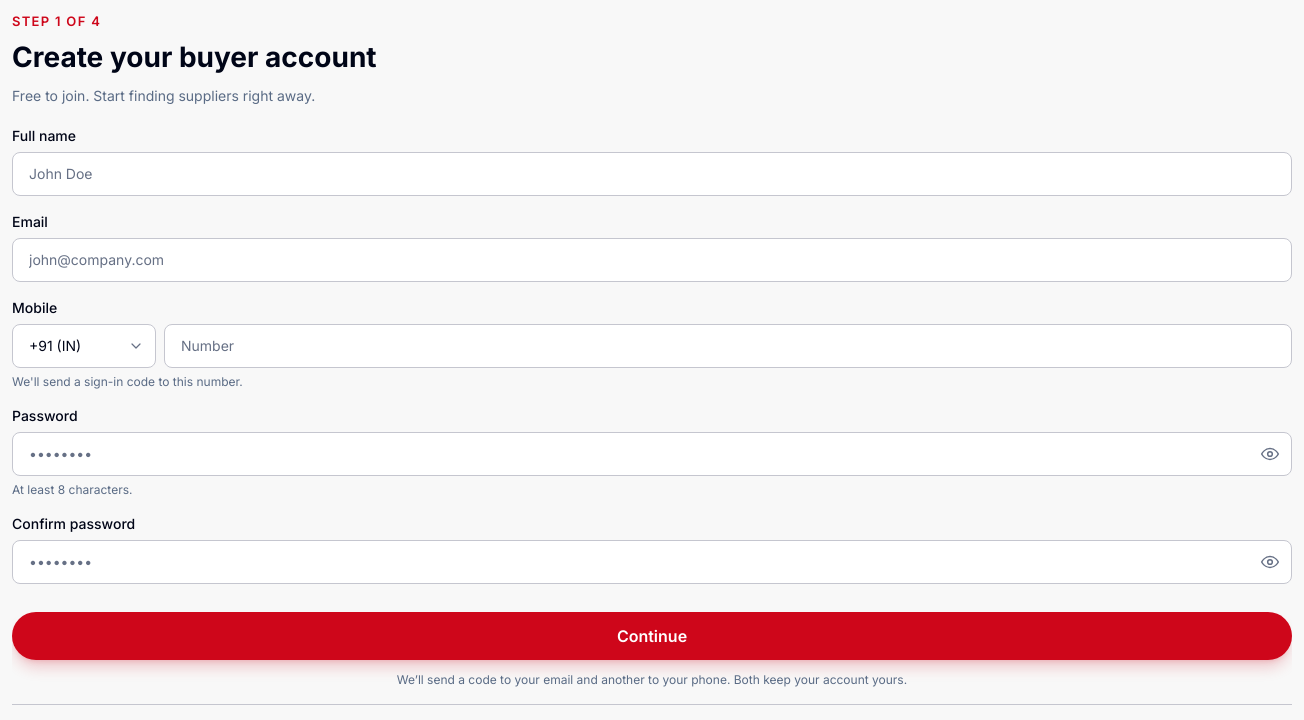
Scenario: Buyer signup — step 1 › refuses mismatched passwords
Type " Nikita Rao " into the field labelled "Full name" at {"x": 652, "y": 174}, box x1=12 y1=152 x2=1292 y2=196
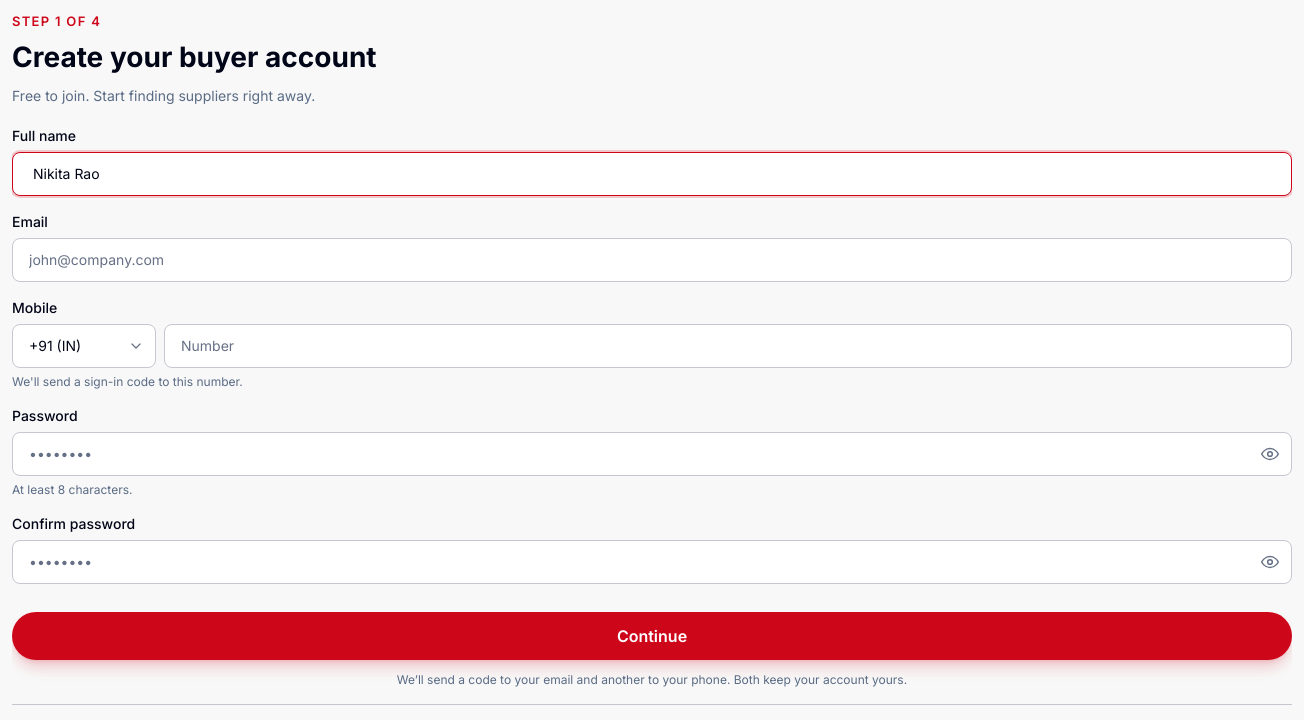
Type "nikita@example.com" into the field labelled "Email" at {"x": 652, "y": 260}, box x1=12 y1=238 x2=1292 y2=282
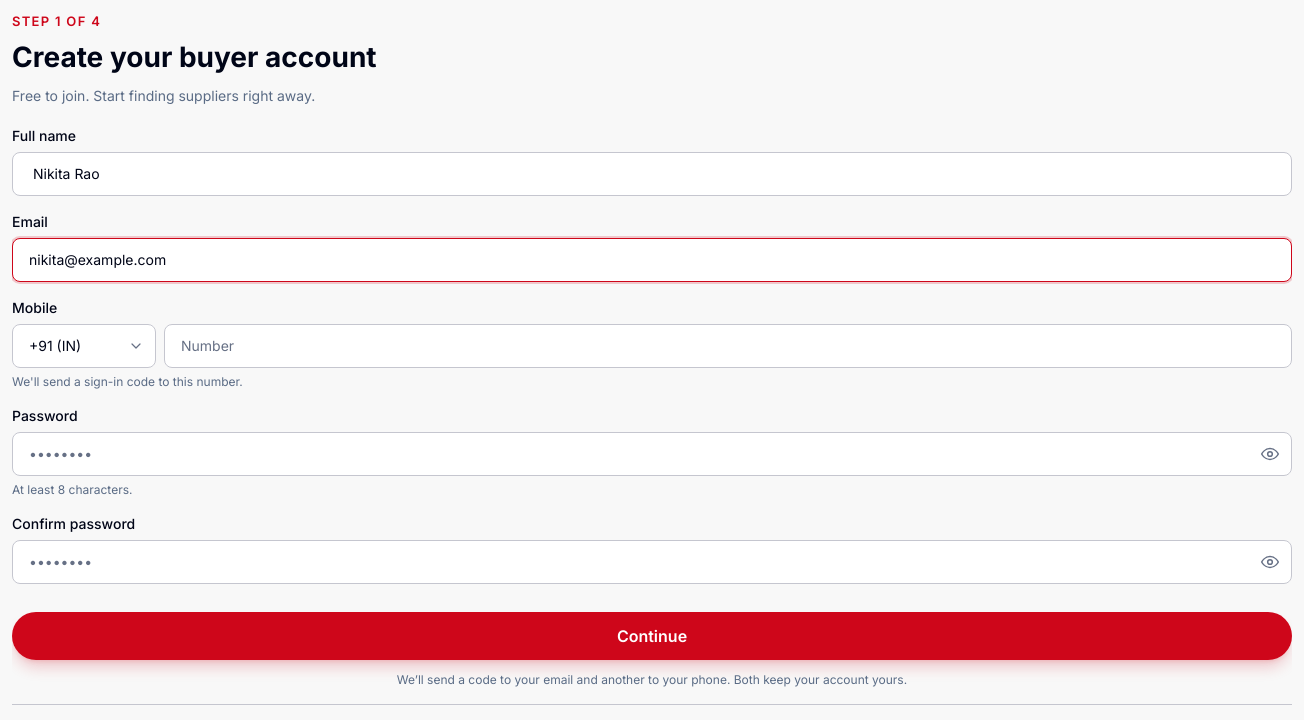
Type "98765 43210" into the field with placeholder "Number" at {"x": 728, "y": 346}, box x1=164 y1=324 x2=1292 y2=368
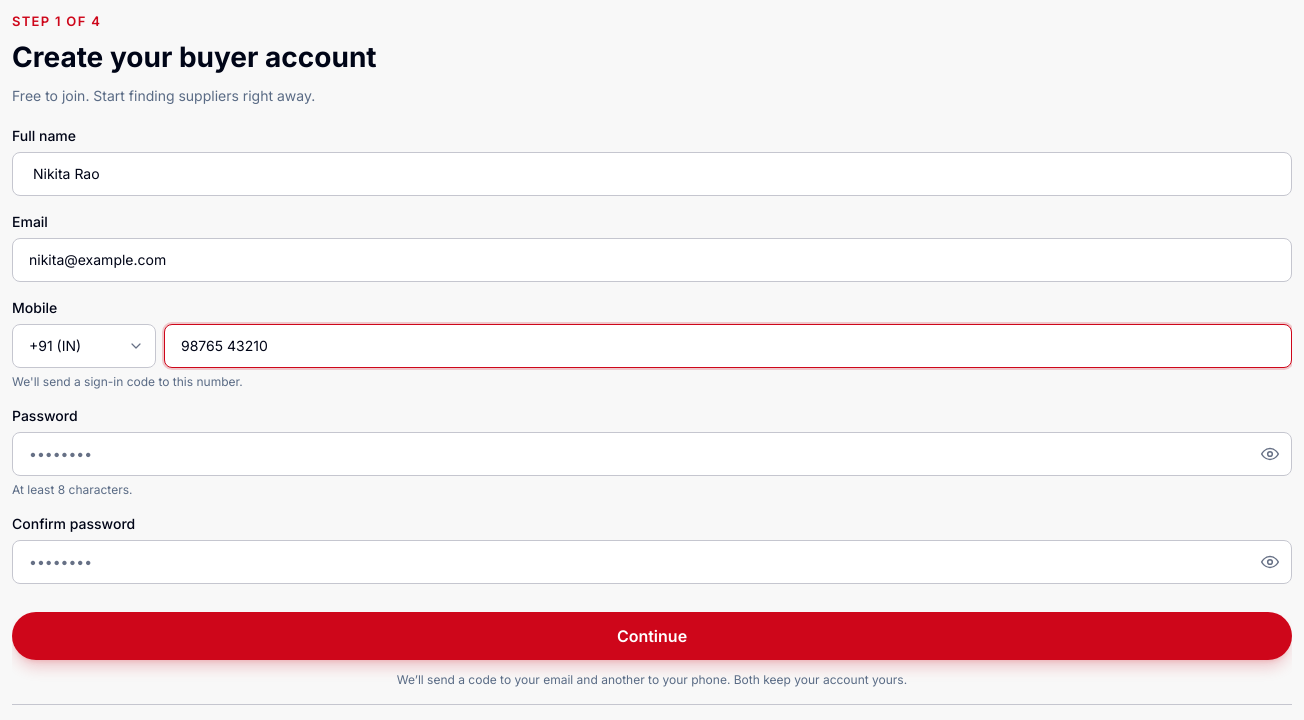
Type "longpassword1" into the password field labelled "Password" at {"x": 652, "y": 454}, box x1=12 y1=432 x2=1292 y2=476
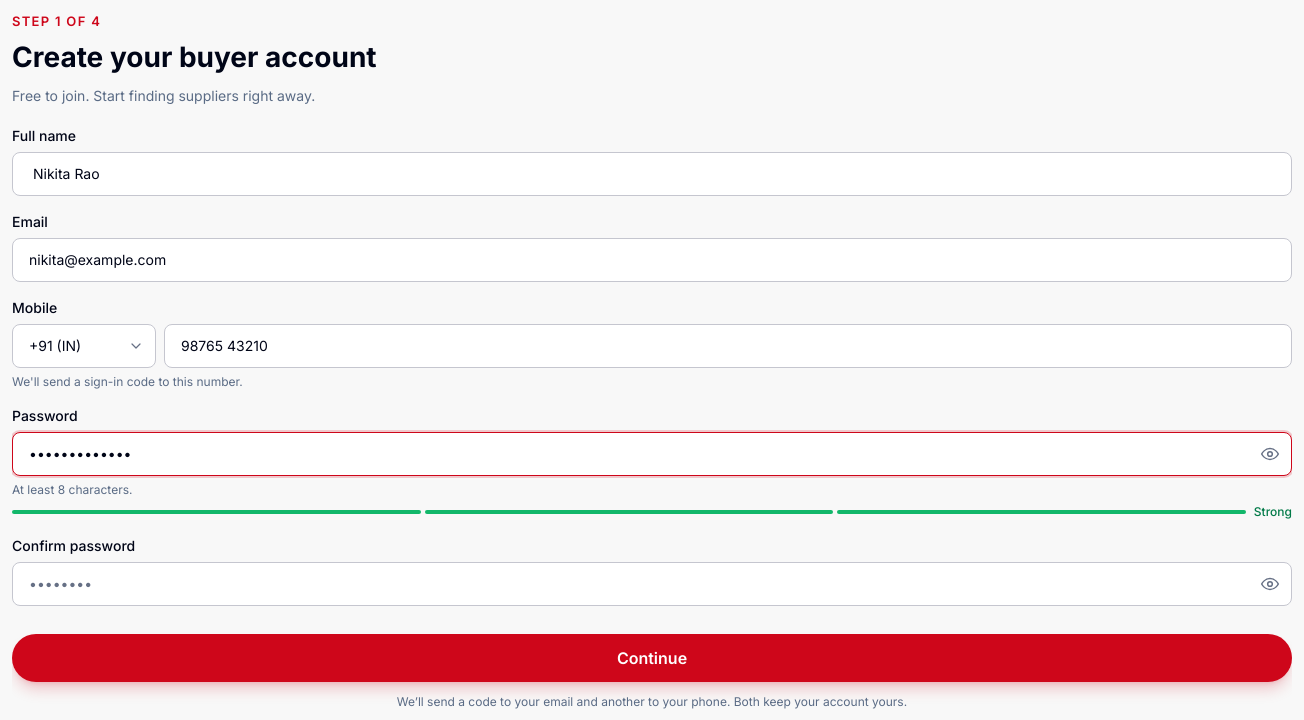
Type "longpassword2" into the password field labelled "Confirm password" at {"x": 652, "y": 584}, box x1=12 y1=562 x2=1292 y2=606
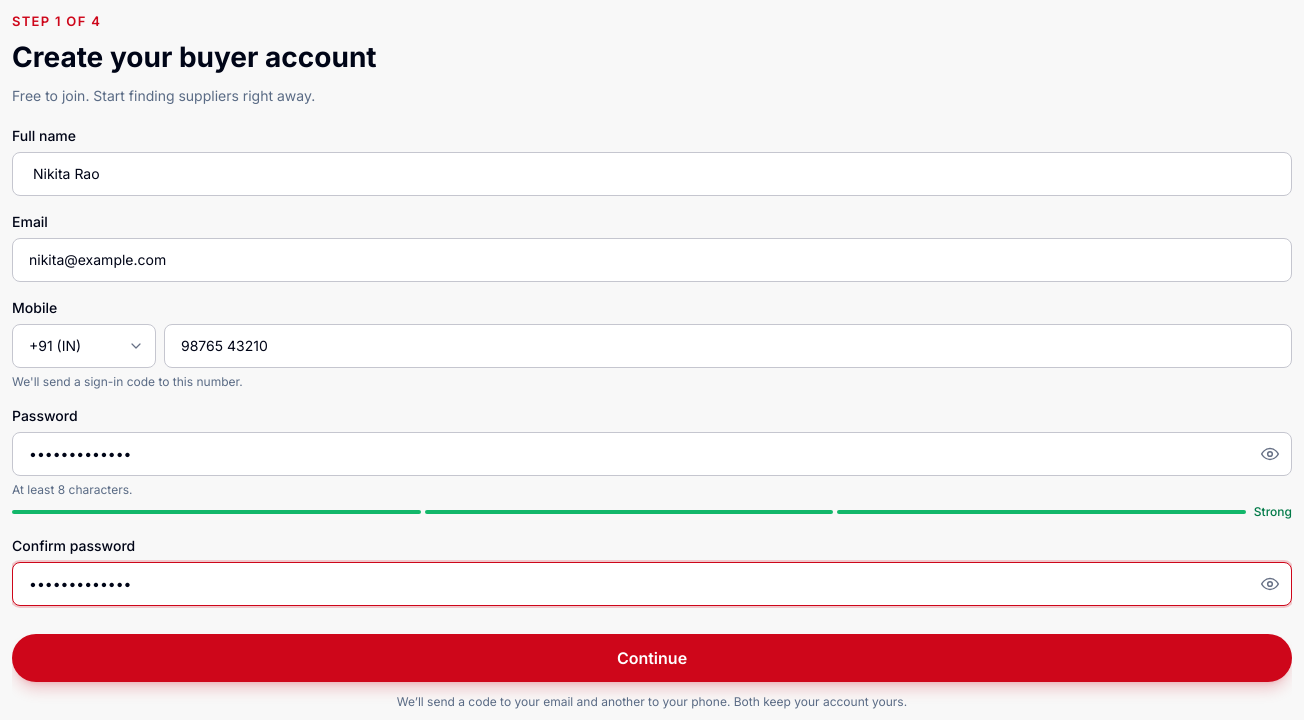
Click the button "Continue" at {"x": 652, "y": 658}, box x1=12 y1=634 x2=1292 y2=682
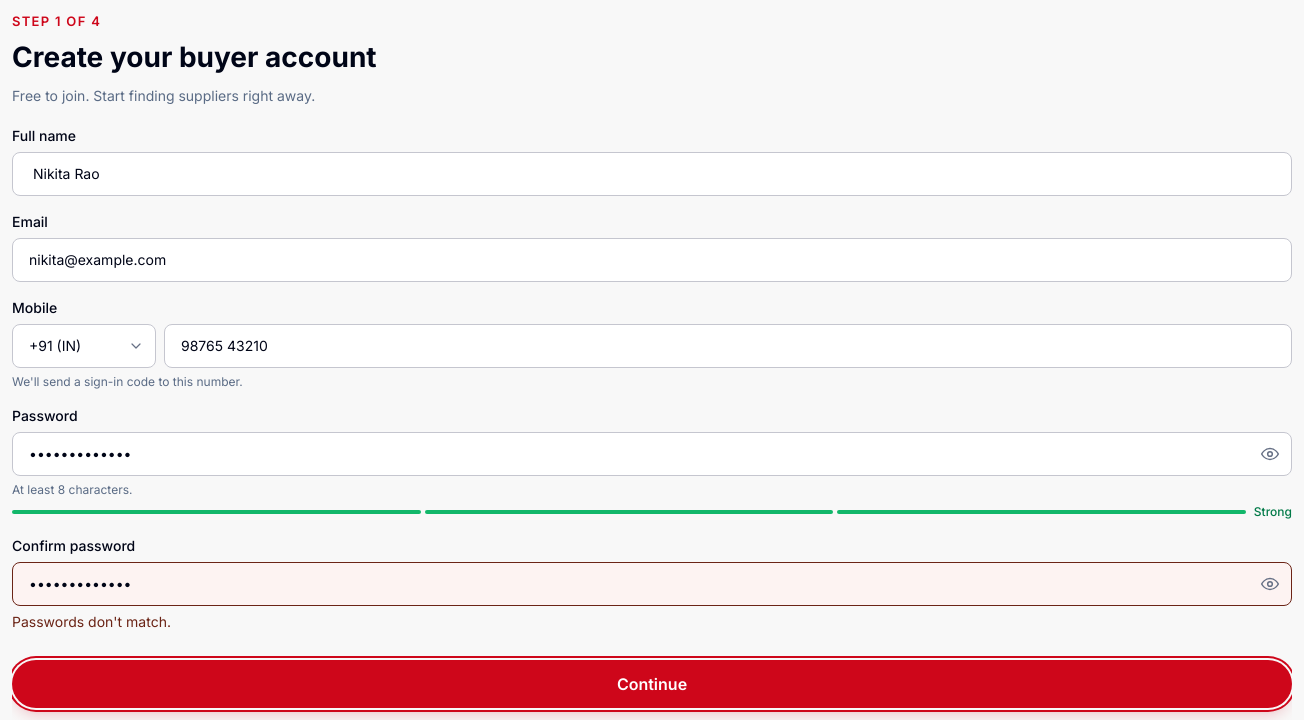
Check: the text "Passwords don't match." is shown, box x1=12 y1=612 x2=171 y2=630
